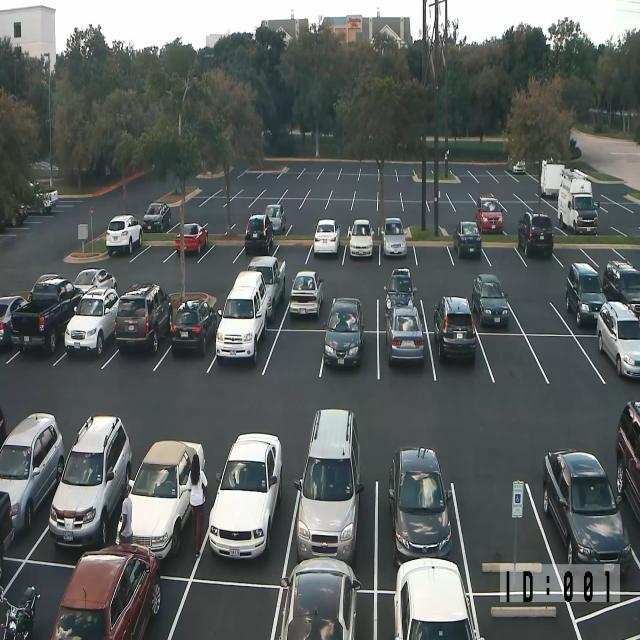car: (48, 414, 132, 548), (115, 439, 206, 561), (542, 449, 631, 573), (50, 542, 162, 640), (294, 407, 364, 563), (208, 431, 282, 560), (0, 412, 65, 536), (388, 445, 452, 566), (270, 556, 361, 640), (394, 556, 485, 640), (10, 273, 84, 354), (215, 270, 270, 363), (114, 281, 172, 354), (64, 286, 119, 356), (596, 300, 640, 378), (615, 399, 640, 524), (323, 296, 365, 368), (433, 295, 476, 363), (565, 262, 607, 327), (171, 298, 216, 356), (247, 256, 286, 322), (384, 304, 425, 366), (558, 172, 598, 235), (602, 258, 640, 318), (0, 584, 41, 639), (472, 273, 509, 327), (517, 210, 554, 258), (289, 270, 323, 318), (383, 267, 417, 314), (106, 214, 142, 255), (0, 295, 27, 347), (0, 490, 15, 579), (73, 268, 118, 296), (244, 213, 274, 254), (453, 220, 482, 258), (175, 222, 208, 254), (348, 218, 374, 258), (313, 218, 341, 255), (381, 216, 406, 257), (476, 195, 502, 234), (142, 202, 170, 232), (264, 203, 286, 235), (31, 160, 58, 173), (0, 407, 7, 452), (512, 158, 526, 174)
